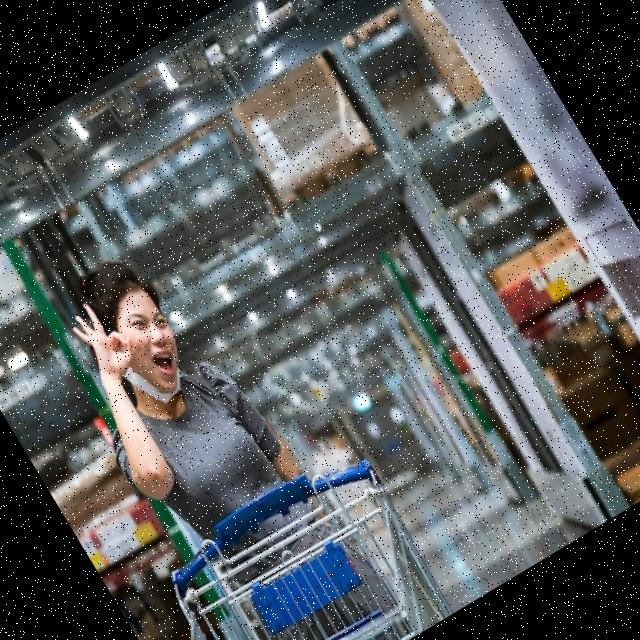Person: (22, 219, 417, 640)
